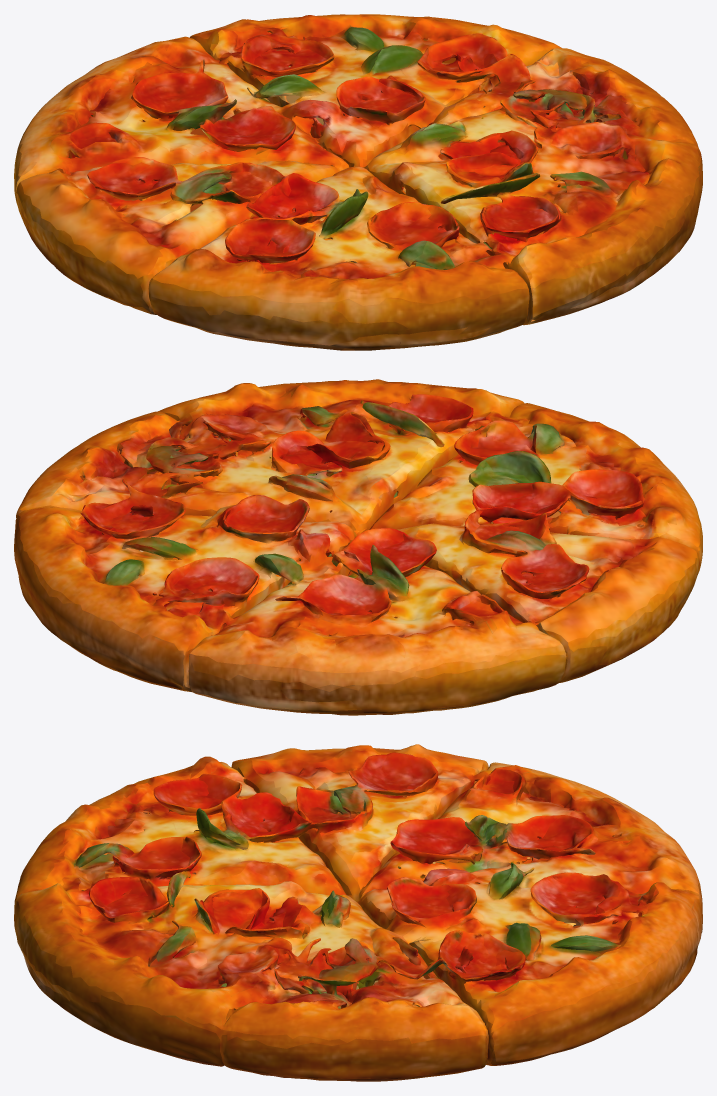
File: pepperoni-pizza-0.glb
3 renders of one model, top to bottom at view 1: azimuth 30°, elevation 25°; view 2: azimuth 150°, elevation 25°; view 3: azimuth 270°, elevation 25°, orthographic.
Parts seen in each view (by area): view 1: geometry_0; view 2: geometry_0; view 3: geometry_0.
Part boxes in pixels (<box>): geometry_0: <box>14,14,702,350</box>; geometry_0: <box>14,379,702,715</box>; geometry_0: <box>14,744,702,1081</box>.
Bounding box in the file's own units: 0.3 × 0.0489 × 0.3003.
1 material, 1 textured.
